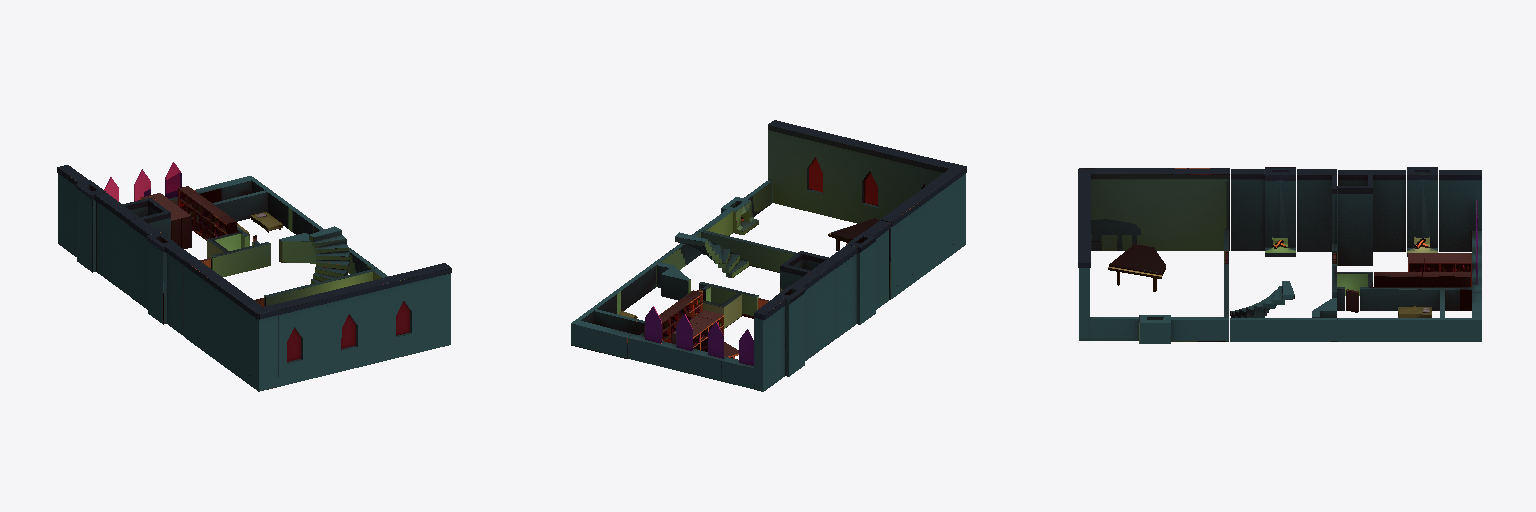
3 views of the same model, side by side, from view 1: azimuth 30°, elevation 25°; view 2: azimuth 150°, elevation 25°; view 3: azimuth 270°, elevation 25° (orthographic).
Visible parts, largest first — view 1: Protowall_Thick.013_Cube.584; view 2: Protowall_Thick.013_Cube.584; view 3: Protowall_Thick.013_Cube.584.
Part boxes in pixels (x1,y1,x2,y2): Protowall_Thick.013_Cube.584: (57, 162, 451, 391); Protowall_Thick.013_Cube.584: (571, 120, 966, 391); Protowall_Thick.013_Cube.584: (1078, 167, 1481, 343).
Size of the model in its own units: 8.15 by 3.01 by 14.02.
Materials: 27 (1 with a texture image).